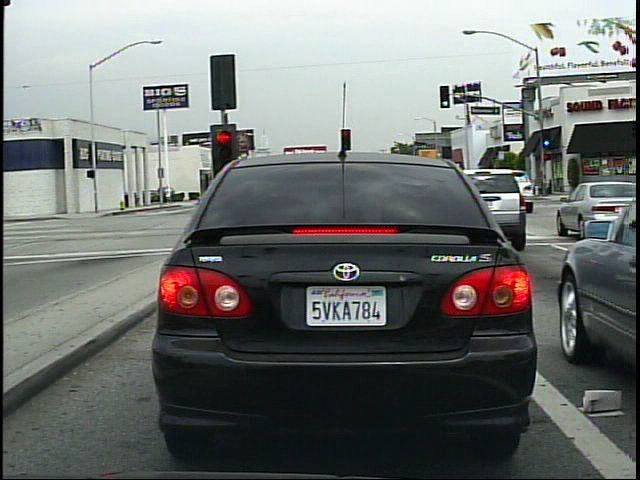person: (519, 166, 534, 198), (164, 183, 176, 206)
